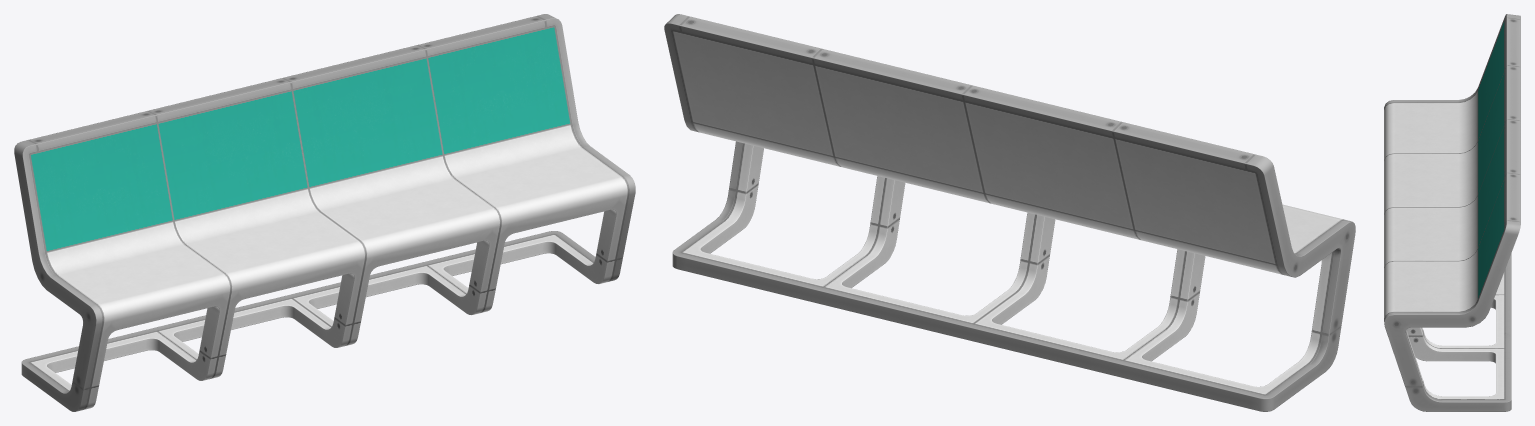
Rendered from MedWaitingBench01_1.FBX.
The picture shows the model from 3 angles, left to right: view 1: azimuth 30°, elevation 25°; view 2: azimuth 150°, elevation 25°; view 3: azimuth 270°, elevation 25°; orthographic projection. The views are drawn at different scales.
Visible parts, largest first — view 1: MedWaitingBench01_1; view 2: MedWaitingBench01_1; view 3: MedWaitingBench01_1.
Part boxes in pixels (x1,y1,x2,y2): MedWaitingBench01_1: (14,14,635,411); MedWaitingBench01_1: (664,14,1355,411); MedWaitingBench01_1: (1384,14,1520,411).
Size of what is drawn, in the model's own units: 2.54 by 1.02 by 0.6837.
